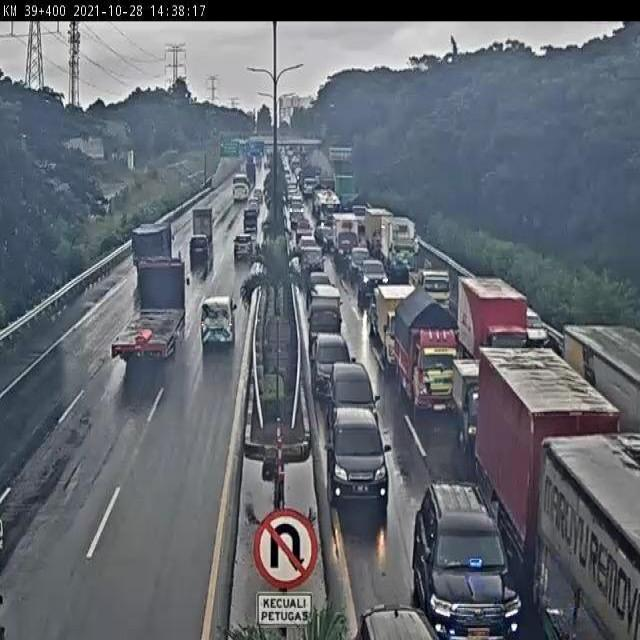big truck: (477, 346, 640, 640), (86, 264, 199, 375), (563, 313, 640, 431), (452, 274, 534, 362), (456, 354, 509, 442), (126, 216, 190, 281)
car: (412, 480, 518, 635), (330, 403, 388, 509), (357, 592, 440, 640), (311, 331, 363, 404), (331, 362, 384, 430), (198, 291, 244, 358), (305, 284, 352, 343), (416, 262, 460, 318), (522, 290, 555, 354), (359, 257, 393, 304), (230, 229, 258, 264), (187, 236, 215, 268)
small truck: (393, 291, 464, 421), (376, 284, 416, 368), (189, 202, 219, 242), (240, 204, 261, 232)
